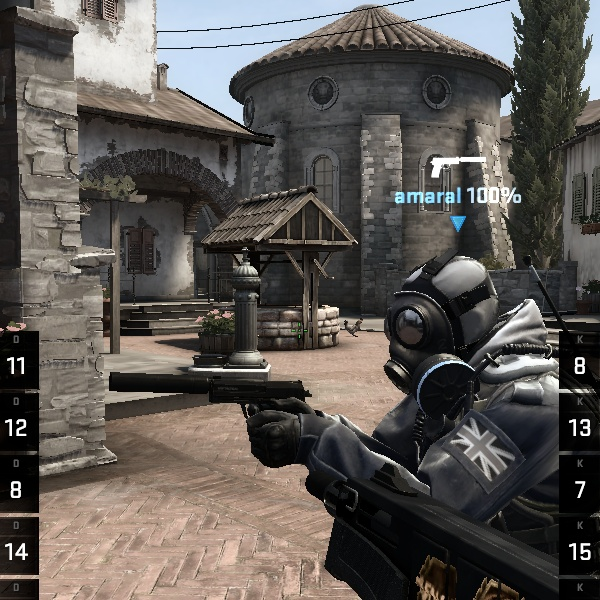ct_head: (350, 243, 541, 430)
